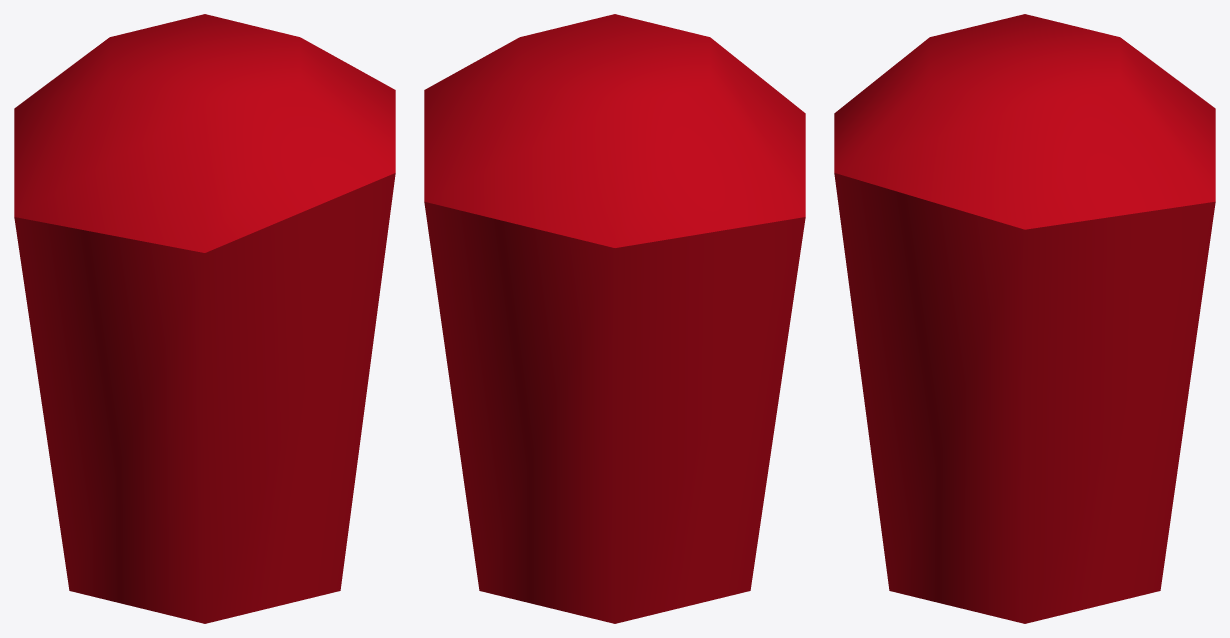
Rendered from Crystal_03.FBX.
3 renders of one model, left to right at view 1: azimuth 30°, elevation 25°; view 2: azimuth 150°, elevation 25°; view 3: azimuth 270°, elevation 25°, orthographic.
Visible parts, largest first — view 1: Cone003; view 2: Cone003; view 3: Cone003.
Part boxes in pixels (x1,y1,x2,y2): Cone003: (14,14,395,623); Cone003: (424,14,805,623); Cone003: (834,14,1215,623).
Size of the model in its own units: 22.43 by 19.43 by 27.94.
